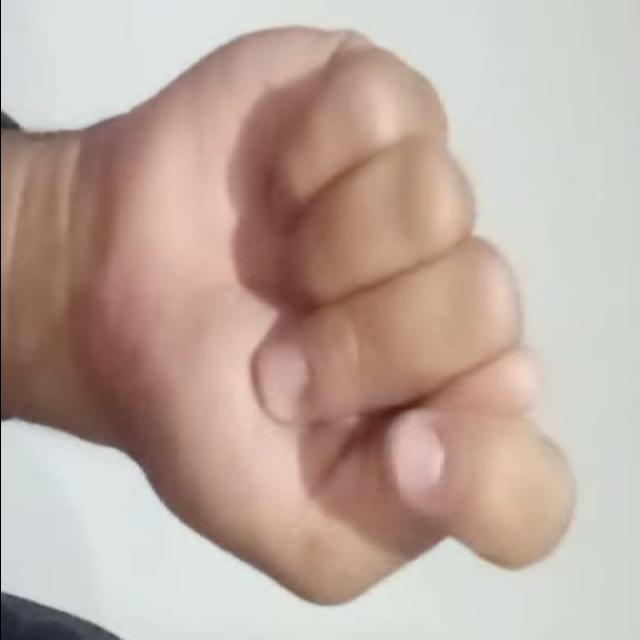T: (59, 20, 593, 612)
